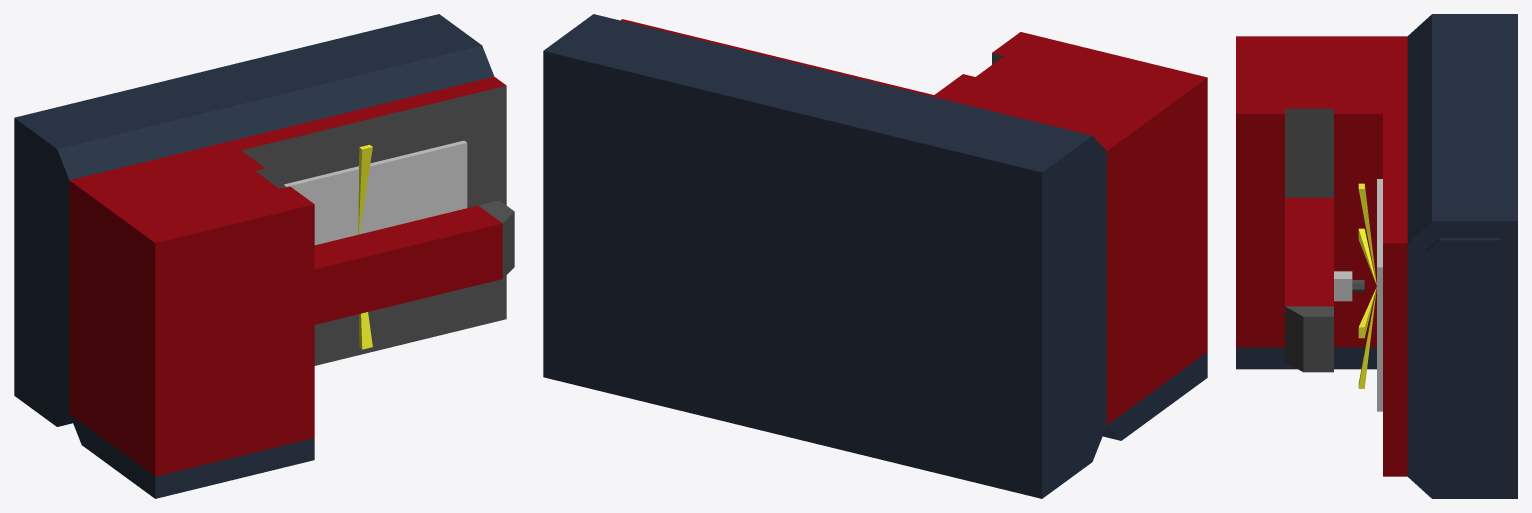
File: cnc_cutting_machine_1_state_2.dae
3 views of the same model, side by side, from view 1: azimuth 30°, elevation 25°; view 2: azimuth 150°, elevation 25°; view 3: azimuth 270°, elevation 25° (orthographic). The views are drawn at different scales.
Parts seen in each view (by area): view 1: coords_ME_ID19_MA_material_7, coords_ME_ID3_MA_jean_blue, coords_ME_ID139_MA_material, coords_ME_ID151_MA_material_11, coords_ME_ID11_MA_material, coords_ME_ID67_MA_material_3; view 2: coords_ME_ID3_MA_jean_blue, coords_ME_ID19_MA_material_7; view 3: coords_ME_ID19_MA_material_7, coords_ME_ID3_MA_jean_blue, coords_ME_ID47_MA_jean_blue, coords_ME_ID61_MA_material, coords_ME_ID11_MA_material, coords_ME_ID151_MA_material_11, coords_ME_ID53_MA_material_11, coords_ME_ID67_MA_material_3, coords_ME_ID81_MA_material_3, coords_ME_ID75_MA_material_3.
Part boxes in pixels (x1,y1,x2,y2): coords_ME_ID19_MA_material_7: (69, 76, 506, 476); coords_ME_ID3_MA_jean_blue: (14, 14, 494, 498); coords_ME_ID139_MA_material: (241, 85, 506, 365); coords_ME_ID151_MA_material_11: (283, 140, 467, 245); coords_ME_ID11_MA_material: (478, 200, 514, 278); coords_ME_ID67_MA_material_3: (358, 144, 372, 234); coords_ME_ID3_MA_jean_blue: (543, 14, 1207, 498); coords_ME_ID19_MA_material_7: (620, 19, 1207, 424); coords_ME_ID19_MA_material_7: (1236, 36, 1407, 476); coords_ME_ID3_MA_jean_blue: (1236, 14, 1517, 498); coords_ME_ID47_MA_jean_blue: (1426, 238, 1499, 484); coords_ME_ID61_MA_material: (1285, 108, 1333, 197); coords_ME_ID11_MA_material: (1285, 306, 1333, 372); coords_ME_ID151_MA_material_11: (1377, 179, 1382, 411); coords_ME_ID53_MA_material_11: (1334, 271, 1352, 301); coords_ME_ID67_MA_material_3: (1358, 183, 1376, 283); coords_ME_ID81_MA_material_3: (1358, 289, 1376, 388); coords_ME_ID75_MA_material_3: (1358, 228, 1376, 284).
Size of the model in its own units: 44.65 by 28.11 by 25.35.
